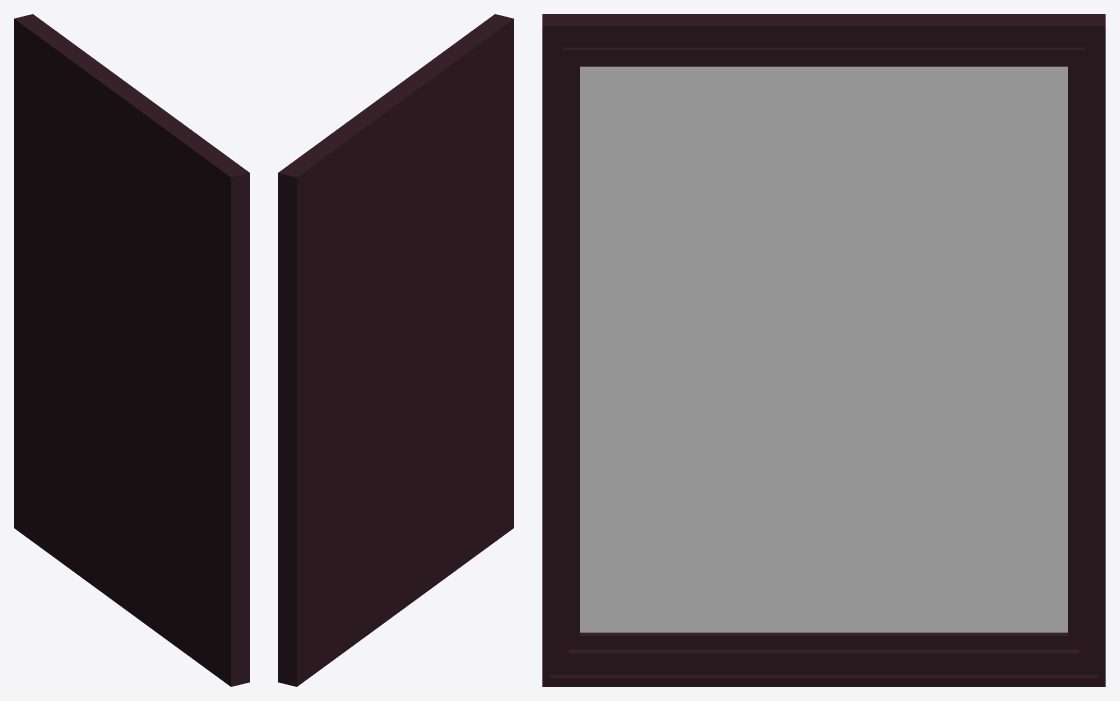
Rendered from Bild3 Kid.fbx.
3 renders of one model, left to right at view 1: azimuth 30°, elevation 25°; view 2: azimuth 150°, elevation 25°; view 3: azimuth 270°, elevation 25°, orthographic. The views are drawn at different scales.
Visible parts, largest first — view 1: Cube; view 2: Cube; view 3: Cube.
Part boxes in pixels (x1,y1,x2,y2): Cube: [14, 14, 249, 686]; Cube: [278, 14, 513, 686]; Cube: [542, 14, 1105, 686].
Size of the model in its own units: 4.13 by 106 by 82.11.
